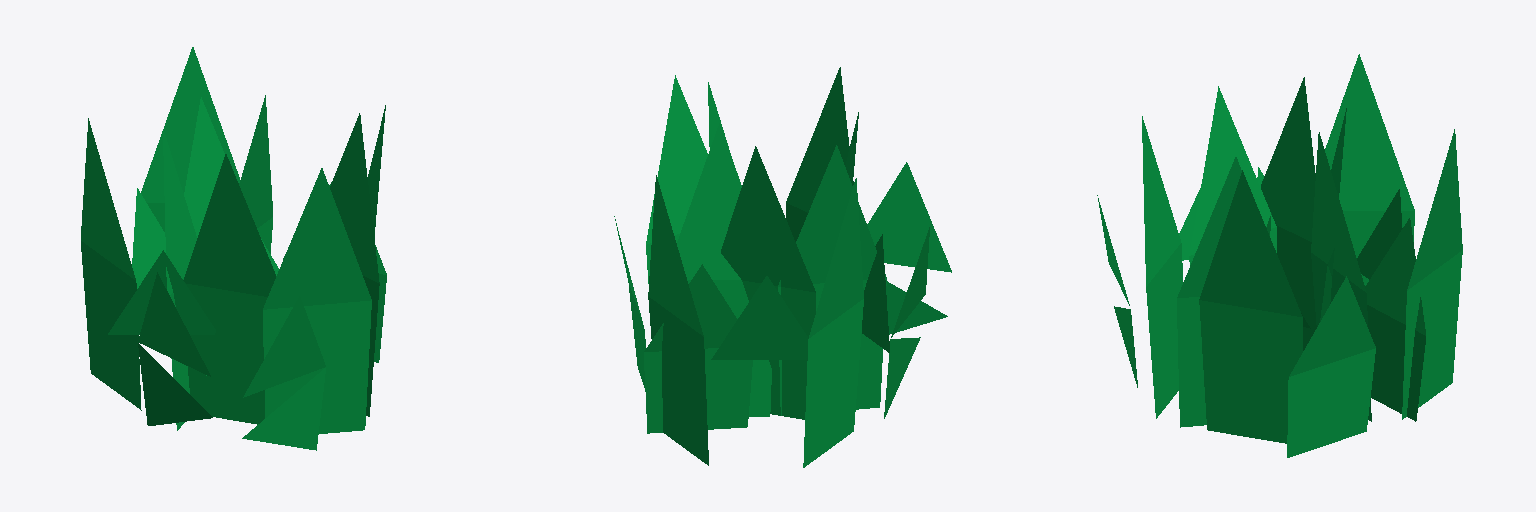
File: Unmowed_Grass_OBJ.obj
The picture shows the model from 3 angles: view 1: azimuth 30°, elevation 25°; view 2: azimuth 150°, elevation 25°; view 3: azimuth 270°, elevation 25°; orthographic projection.
Visible parts, largest first — view 1: Mowed_Grass_High_LOD; view 2: Mowed_Grass_High_LOD; view 3: Mowed_Grass_High_LOD.
Boxes of the visible parts, x1,y1,x2,y2 form: Mowed_Grass_High_LOD: [81, 47, 386, 450]; Mowed_Grass_High_LOD: [614, 67, 951, 467]; Mowed_Grass_High_LOD: [1097, 54, 1462, 457].
Size of the model in its own units: 0.8627 by 0.855 by 1.01.